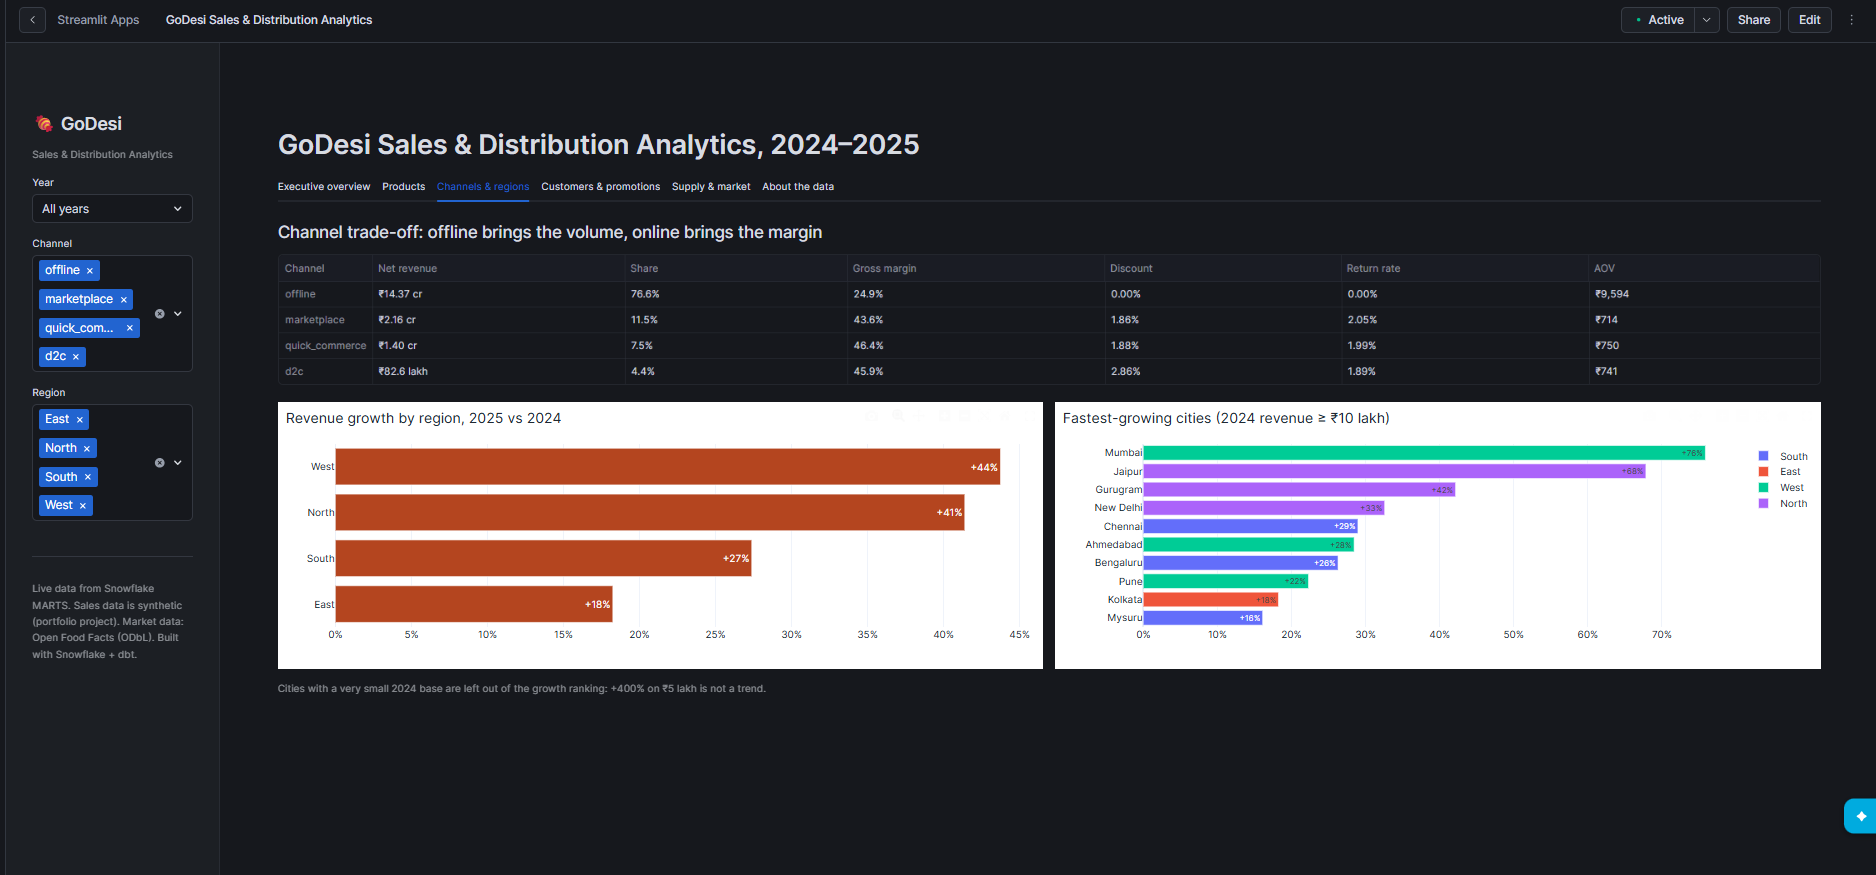

The page's visual inventory and layout, read from the dashboard file:
{"tool":"powerbi","page":{"name":" Channels & regions","canvas":[1280,720],"ordinal":2},"visuals":[{"type":"slicer","fields":{"Values":["DIM_DATE.YEAR"]},"box":[699.8,9.6,190.7,70],"z":0},{"type":"slicer","fields":{"Values":["DIM_CHANNEL.CHANNEL"]},"box":[890.6,9.6,189.4,70],"z":1000},{"type":"slicer","fields":{"Values":["DIM_GEOGRAPHY.REGION"]},"box":[1079.9,9.6,182.5,70],"z":2000},{"type":"cardVisual","fields":{"Data":["FCT_ORDER_ITEMS.Net Revenue"]},"box":[20.6,79.6,314.2,109.8],"z":3000},{"type":"cardVisual","fields":{"Data":["FCT_ORDER_ITEMS.Gross Margin %"]},"box":[660,79.6,304.6,109.8],"z":4000},{"type":"cardVisual","fields":{"Data":["FCT_ORDER_ITEMS.Growth 2025 vs 2024"]},"box":[965,80,300,110],"z":5000},{"type":"cardVisual","fields":{"Data":["FCT_ORDER_ITEMS.Online Share %"]},"box":[334.8,79.6,325.2,109.8],"z":6000},{"type":"textbox","box":[20,10,600,50],"z":7000},{"type":"tableEx","title":" Channel performance","fields":{"Values":["DIM_CHANNEL.CHANNEL","FCT_ORDER_ITEMS.Net Revenue","FCT_ORDER_ITEMS.Revenue Share %","FCT_ORDER_ITEMS.Gross Margin %","FCT_ORDER_ITEMS.AOV","FCT_ORDER_ITEMS.Discount %","FCT_ORDER_ITEMS.Return Rate"]},"box":[20.6,199,679.2,204.5],"z":8000},{"type":"lineClusteredColumnComboChart","title":" Regions: revenue 2024 vs 2025, growth % (line)","fields":{"Category":["DIM_GEOGRAPHY.REGION"],"Y":["FCT_ORDER_ITEMS.Revenue 2024","FCT_ORDER_ITEMS.Revenue 2025"],"Y2":["FCT_ORDER_ITEMS.Growth 2025 vs 2024"]},"box":[20.6,403.4,679.2,288.2],"z":9000},{"type":"clusteredBarChart","title":" Fastest-growing cities (2024 revenue ≥ ₹10 lakh)","fields":{"Category":["DIM_GEOGRAPHY.CITY"],"Y":["FCT_ORDER_ITEMS.Growth 2025 vs 2024"]},"box":[699.8,189.4,580.4,531],"z":10000}]}

Visuals, with their boxes on the page's 1280x720 design canvas (x1, y1, x2, y2). These are canvas units, not pixel positions in the 1876x875 screenshot, which may show the page scaled, cropped or inside an application window:
slicer - DIM_DATE.YEAR: region(700, 10, 890, 80)
slicer - DIM_CHANNEL.CHANNEL: region(891, 10, 1080, 80)
slicer - DIM_GEOGRAPHY.REGION: region(1080, 10, 1262, 80)
cardVisual - FCT_ORDER_ITEMS.Net Revenue: region(21, 80, 335, 189)
cardVisual - FCT_ORDER_ITEMS.Gross Margin %: region(660, 80, 965, 189)
cardVisual - FCT_ORDER_ITEMS.Growth 2025 vs 2024: region(965, 80, 1265, 190)
cardVisual - FCT_ORDER_ITEMS.Online Share %: region(335, 80, 660, 189)
textbox: region(20, 10, 620, 60)
" Channel performance" tableEx: region(21, 199, 700, 404)
" Regions: revenue 2024 vs 2025, growth % (line)" lineClusteredColumnComboChart: region(21, 403, 700, 692)
" Fastest-growing cities (2024 revenue ≥ ₹10 lakh)" clusteredBarChart: region(700, 189, 1280, 720)
